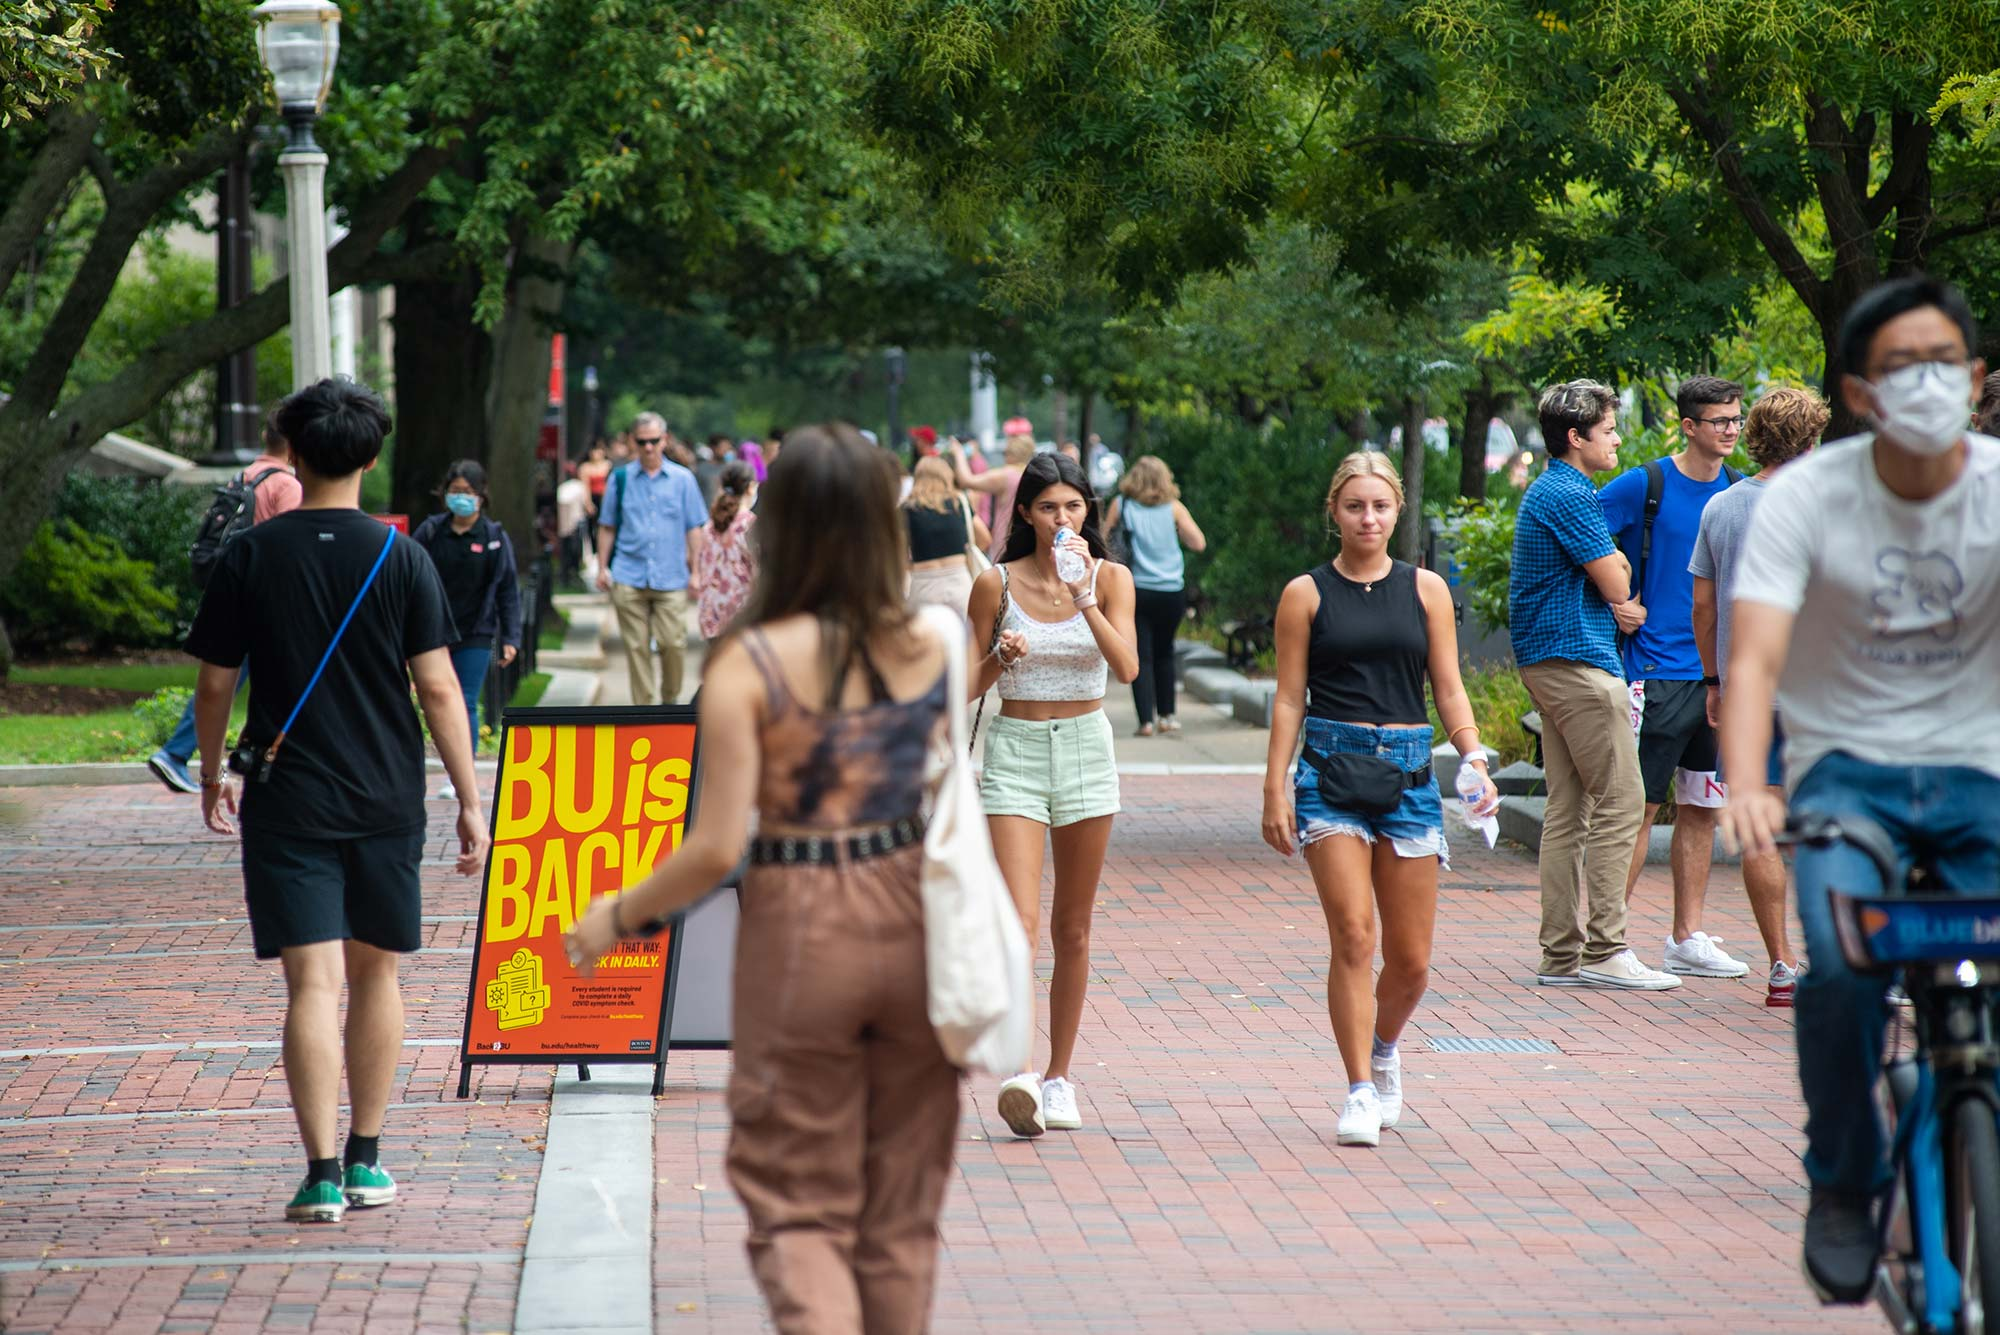with_mask: (1848, 337, 1972, 440), (445, 475, 481, 519)
without_mask: (1031, 490, 1097, 555), (1340, 483, 1396, 552), (1578, 399, 1623, 474), (1700, 396, 1747, 457), (634, 416, 665, 462)
